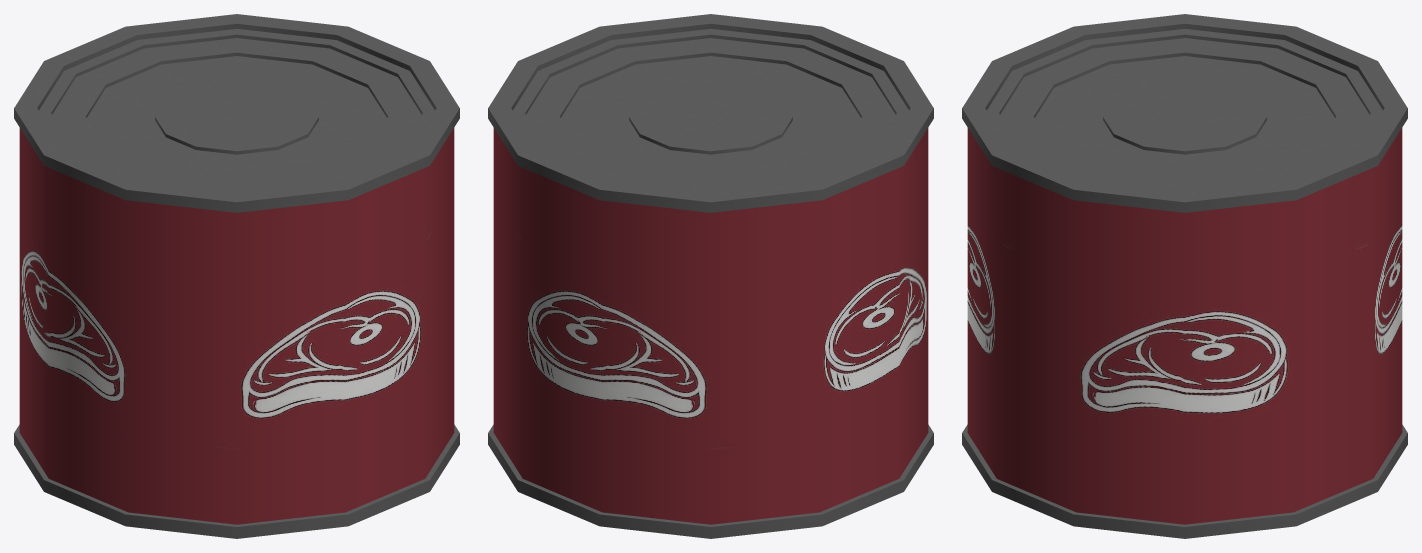
File: large_canned_meat.fbx
3 views of the same model, side by side, from view 1: azimuth 30°, elevation 25°; view 2: azimuth 150°, elevation 25°; view 3: azimuth 270°, elevation 25° (orthographic).
Parts seen in each view (by area): view 1: large_canned_meat; view 2: large_canned_meat; view 3: large_canned_meat.
Boxes of the visible parts, x1,y1,x2,y2 form: large_canned_meat: (14,14,459,538); large_canned_meat: (488,14,933,538); large_canned_meat: (962,14,1407,538).
Bounding box in the file's own units: 12 × 10 × 12.
Materials: 1 (1 with a texture image).
